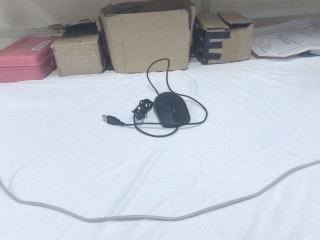box: (98, 1, 199, 75), (189, 9, 255, 67), (51, 18, 111, 78)
mouse: (152, 91, 191, 129)
